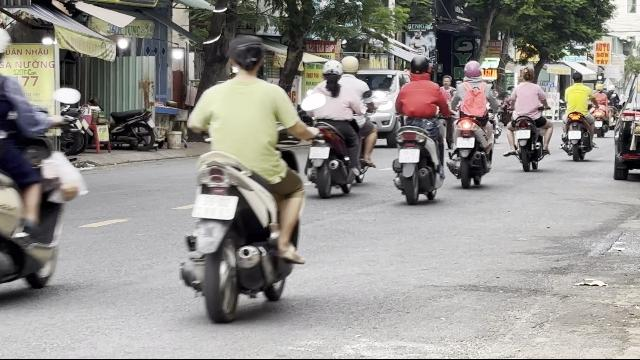helmet: (407, 55, 431, 79), (321, 60, 343, 84), (341, 56, 359, 74)
licenseplate: (194, 194, 236, 218), (399, 148, 419, 162), (309, 146, 329, 158)
motorcyclist: (178, 35, 312, 322), (299, 57, 377, 198), (389, 55, 449, 204)
nohelmet: (225, 36, 267, 76)
